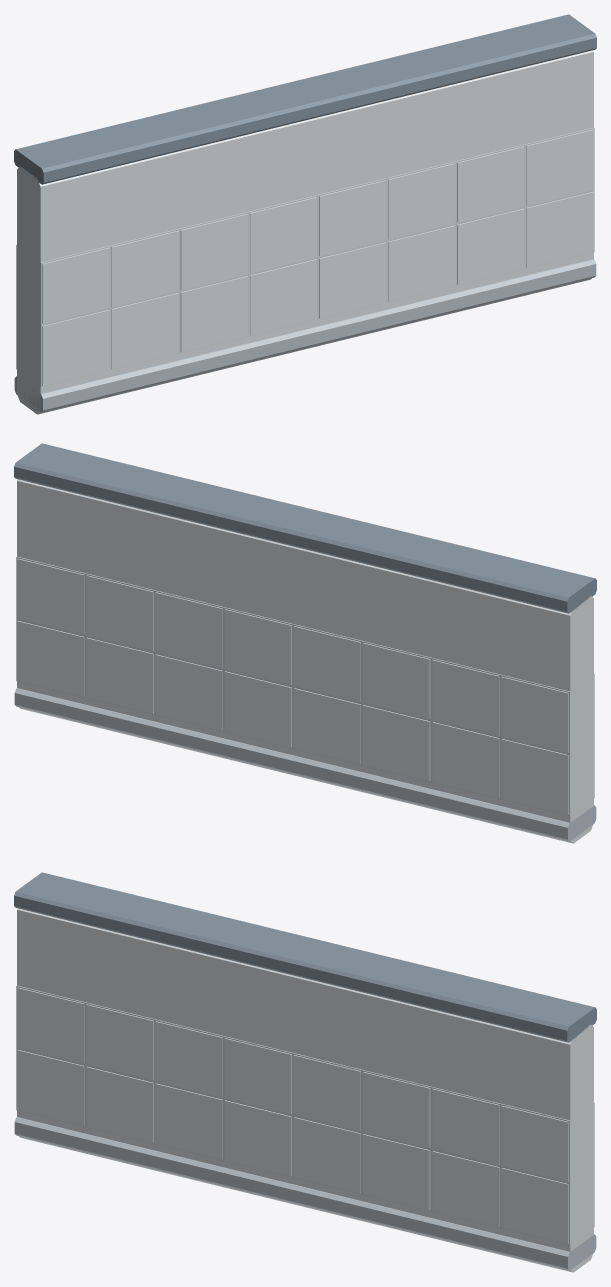
Rendered from wall_school_science.glb.
3 renders of one model, top to bottom at view 1: azimuth 30°, elevation 25°; view 2: azimuth 150°, elevation 25°; view 3: azimuth 330°, elevation 25°, orthographic.
Visible parts, largest first — view 1: Part_001, Part_002, Part_003, Part_005, Part_033, Part_011, Part_017, Part_009, Part_027, Part_035, Part_015, Part_021 (+8 smaller); view 2: Part_001, Part_002, Part_003, Part_004, Part_032, Part_010, Part_016, Part_008, Part_026, Part_034, Part_014, Part_020 (+8 smaller); view 3: Part_001, Part_002, Part_003, Part_005, Part_027, Part_011, Part_017, Part_019, Part_025, Part_033, Part_007, Part_013 (+8 smaller).
Part boxes in pixels (bbox=[...]): Part_001: bbox=[17, 50, 593, 414]; Part_002: bbox=[14, 14, 596, 184]; Part_003: bbox=[14, 259, 596, 412]; Part_005: bbox=[40, 127, 594, 387]; Part_033: bbox=[388, 163, 455, 239]; Part_011: bbox=[180, 276, 247, 352]; Part_017: bbox=[388, 225, 455, 301]; Part_009: bbox=[111, 293, 178, 369]; Part_027: bbox=[180, 214, 247, 289]; Part_035: bbox=[457, 146, 524, 222]; Part_015: bbox=[319, 242, 386, 318]; Part_021: bbox=[526, 192, 593, 267]; Part_001: bbox=[17, 479, 593, 843]; Part_002: bbox=[14, 443, 596, 613]; Part_003: bbox=[14, 688, 596, 841]; Part_004: bbox=[16, 556, 570, 816]; Part_032: bbox=[155, 592, 222, 668]; Part_010: bbox=[363, 705, 430, 781]; Part_016: bbox=[155, 654, 222, 730]; Part_008: bbox=[432, 722, 499, 798]; Part_026: bbox=[363, 643, 430, 718]; Part_034: bbox=[86, 575, 153, 651]; Part_014: bbox=[224, 671, 291, 747]; Part_020: bbox=[17, 621, 84, 696]; Part_001: bbox=[17, 908, 593, 1272]; Part_002: bbox=[14, 872, 596, 1042]; Part_003: bbox=[14, 1117, 596, 1270]; Part_005: bbox=[16, 985, 570, 1245]; Part_027: bbox=[155, 1021, 222, 1097]; Part_011: bbox=[155, 1083, 222, 1159]; Part_017: bbox=[363, 1134, 430, 1210]; Part_019: bbox=[432, 1151, 499, 1227]; Part_025: bbox=[86, 1004, 153, 1080]; Part_033: bbox=[363, 1072, 430, 1147]; Part_007: bbox=[17, 1050, 84, 1125]; Part_013: bbox=[224, 1100, 291, 1176].
Bounding box in the file's own units: 2.7 × 1.16 × 0.25.
